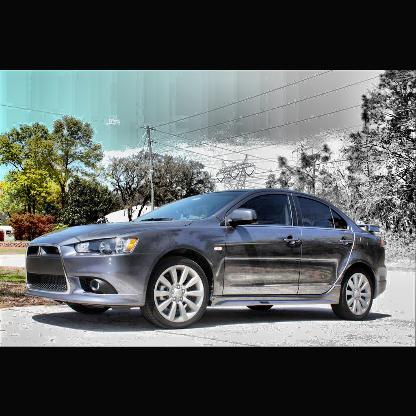Mitsubishi Lancer Sedan 2012: (25, 189, 392, 330)
